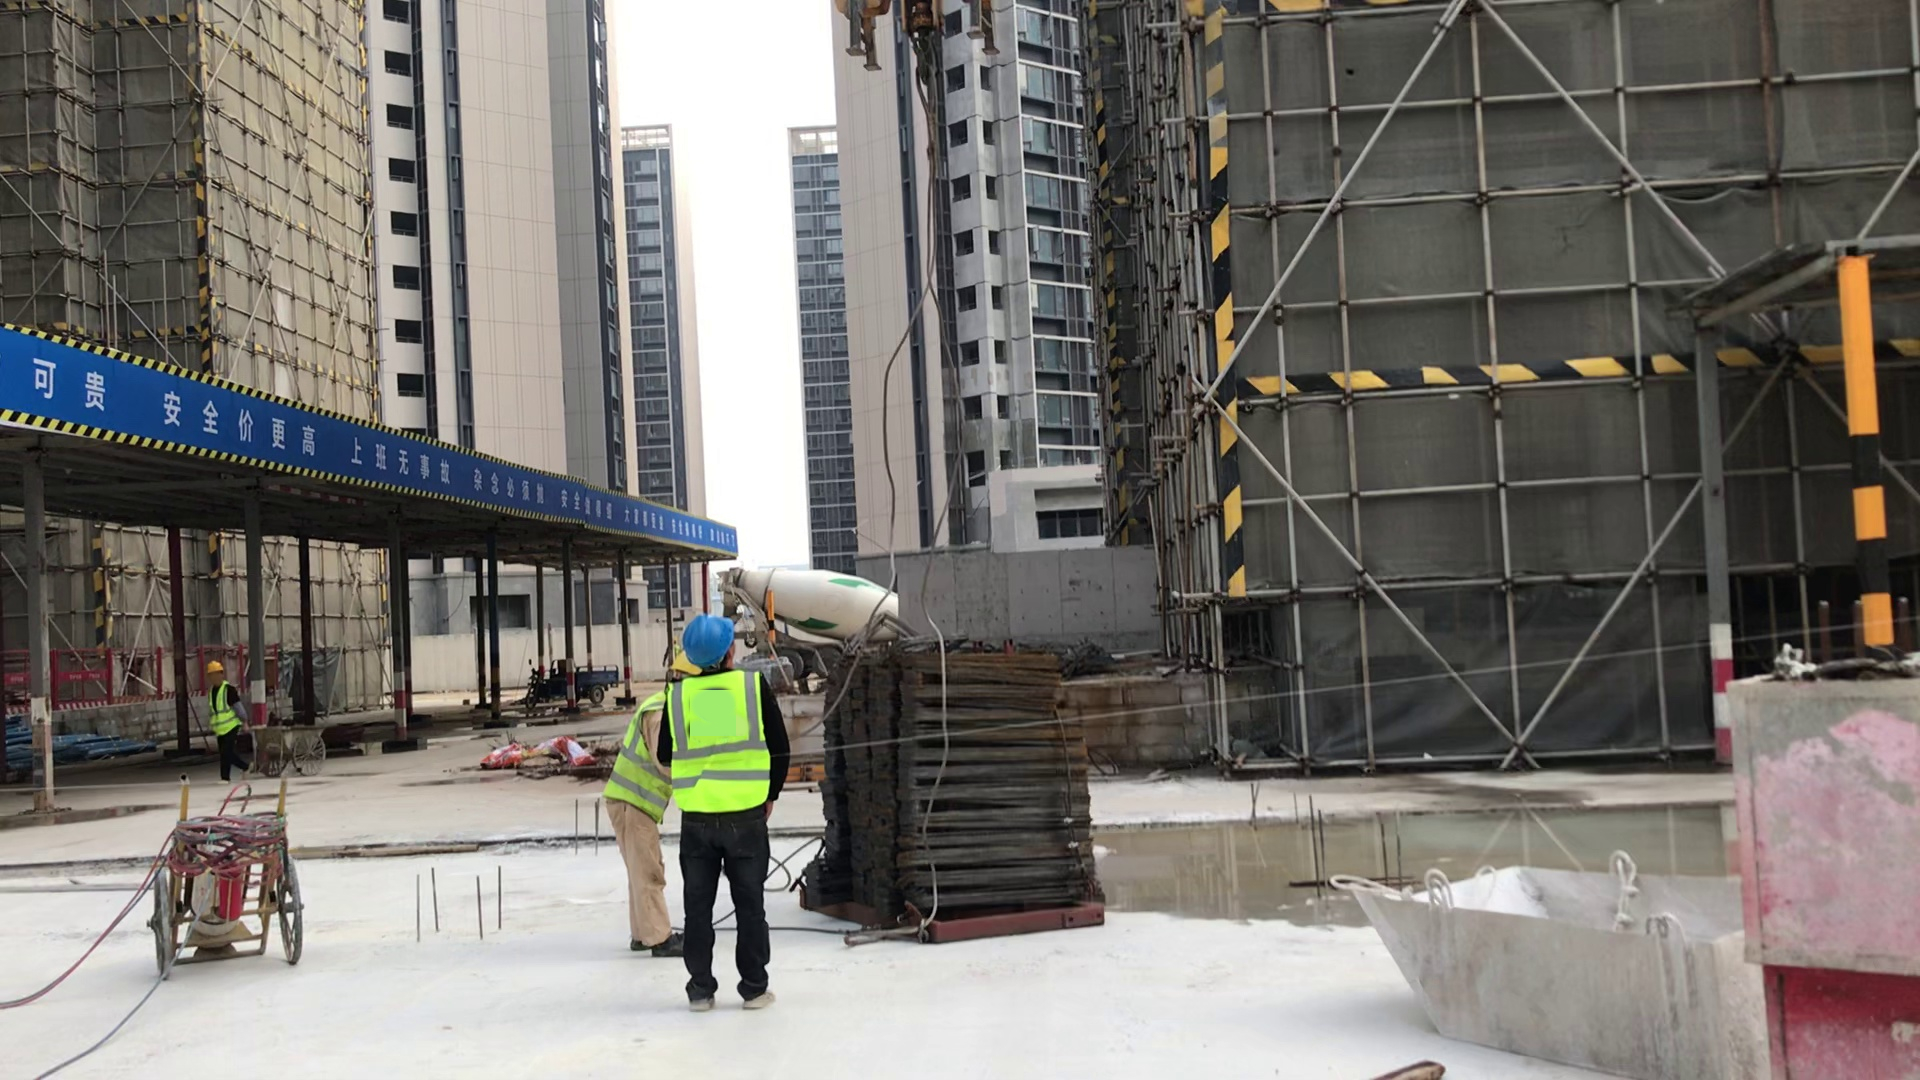fence: (7, 629, 260, 720)
handcart: (252, 724, 330, 780)
helmet: (680, 613, 738, 668), (672, 652, 700, 678), (206, 661, 225, 672)
hopper: (1344, 811, 1767, 1080)
person: (655, 622, 792, 1017), (603, 646, 708, 963), (192, 648, 270, 785)
slogan: (4, 324, 742, 555)
vest: (666, 674, 771, 815), (606, 698, 673, 816), (207, 687, 239, 733)
